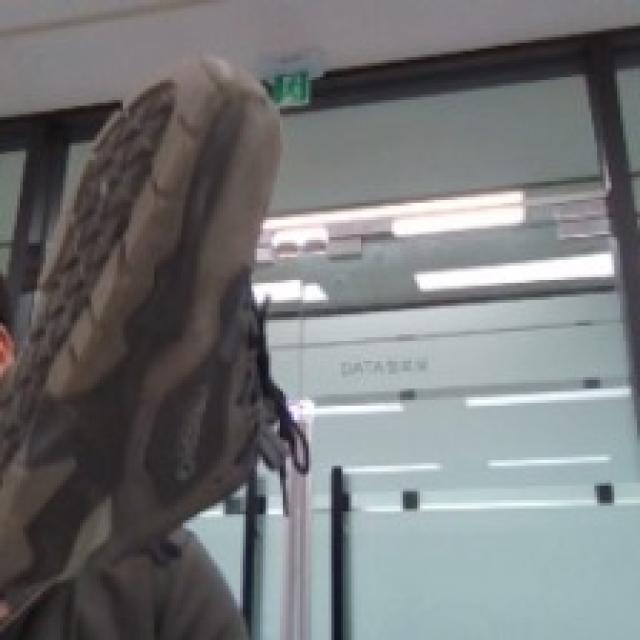shoe: (0, 52, 318, 631)
